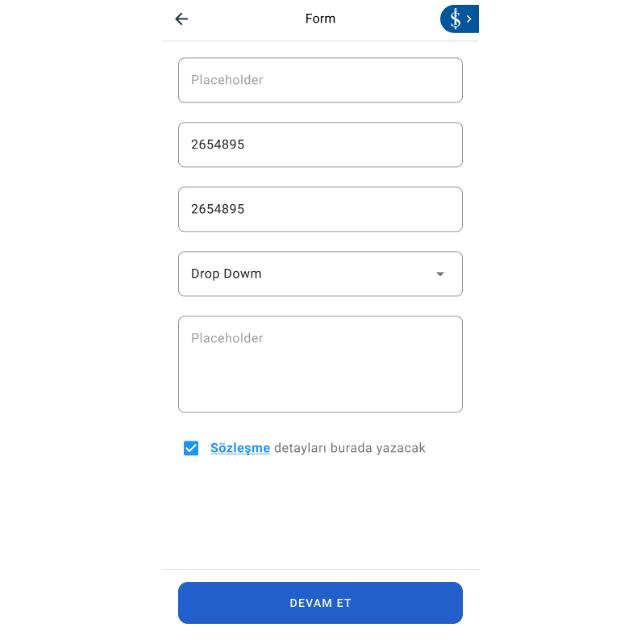QLabel: (273, 441, 429, 455), (210, 442, 270, 454), (288, 598, 352, 608), (304, 13, 336, 24)
VAppBar: (162, 1, 478, 42)
VBtn: (177, 581, 463, 623)
VCheckbox: (180, 439, 200, 457)
VCombobox: (176, 250, 462, 298)
VFooter: (162, 569, 478, 639)
VIcon: (173, 12, 187, 26)
VImg: (438, 4, 476, 34)
VTextField: (176, 56, 462, 104), (178, 185, 462, 232), (178, 122, 462, 168)
VTextarea: (177, 316, 463, 414)
